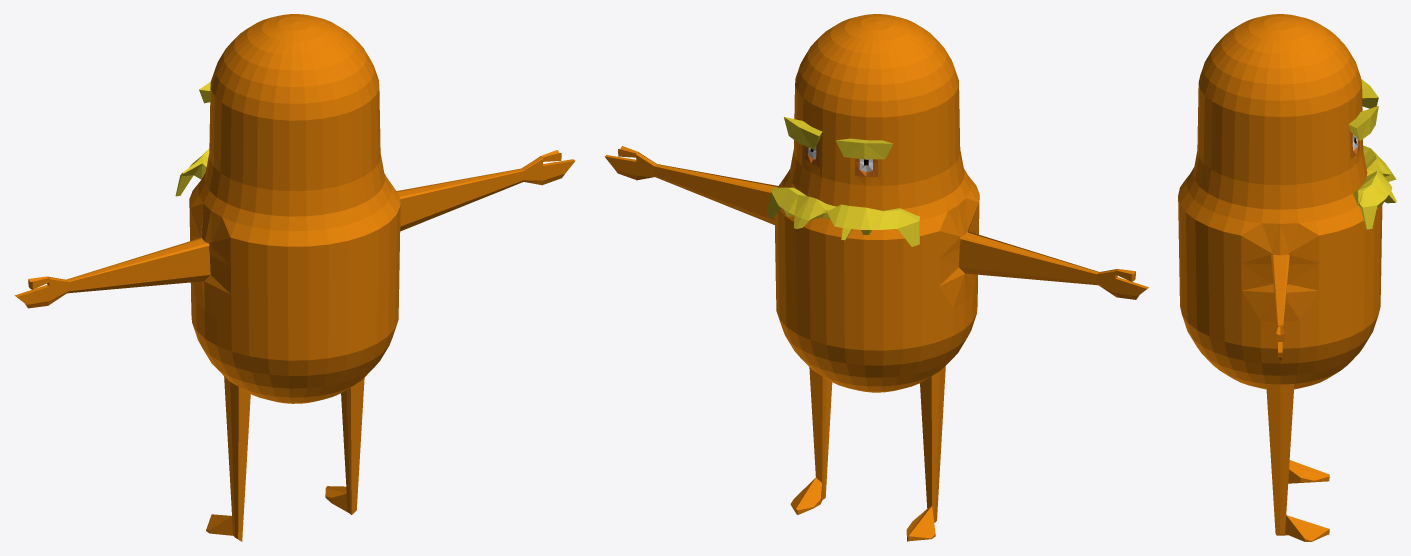
The model's file is lorax.fbx.
The picture shows the model from 3 angles, left to right: view 1: azimuth 30°, elevation 25°; view 2: azimuth 150°, elevation 25°; view 3: azimuth 270°, elevation 25°; orthographic projection. The views are drawn at different scales.
Parts seen in each view (by area): view 1: Sphere; view 2: Sphere; view 3: Sphere.
Part boxes in pixels (x1,y1,x2,y2): Sphere: (14, 14, 575, 541); Sphere: (604, 14, 1148, 541); Sphere: (1178, 14, 1396, 541).
Bounding box in the file's own units: 609 × 527 × 214.
